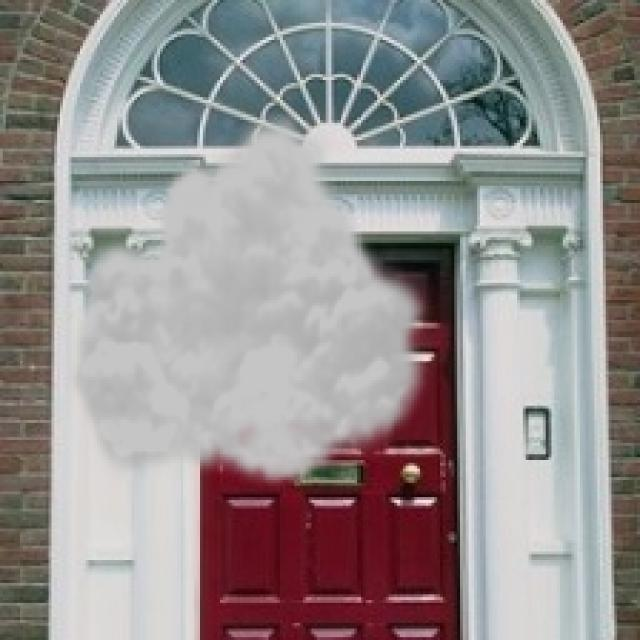smoke: (66, 109, 437, 488)
